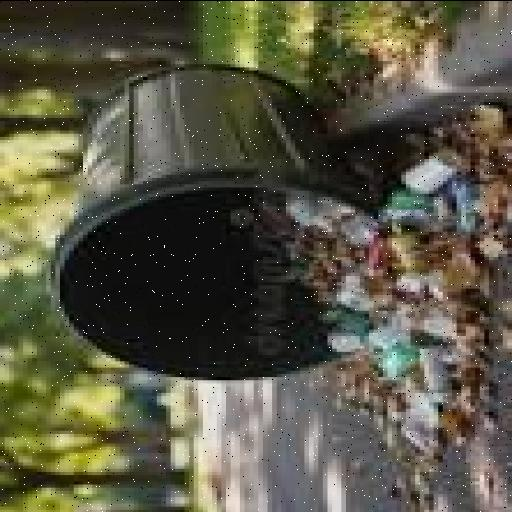poubelle_pleine: (22, 36, 416, 376)
